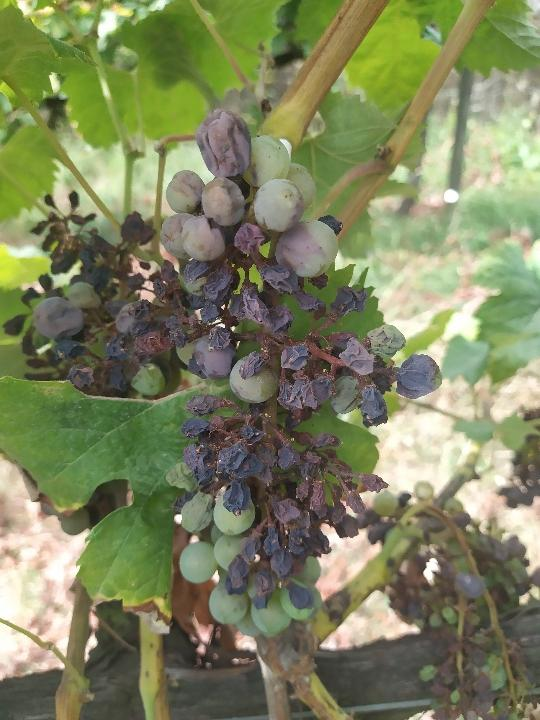grape: (114, 105, 446, 645)
